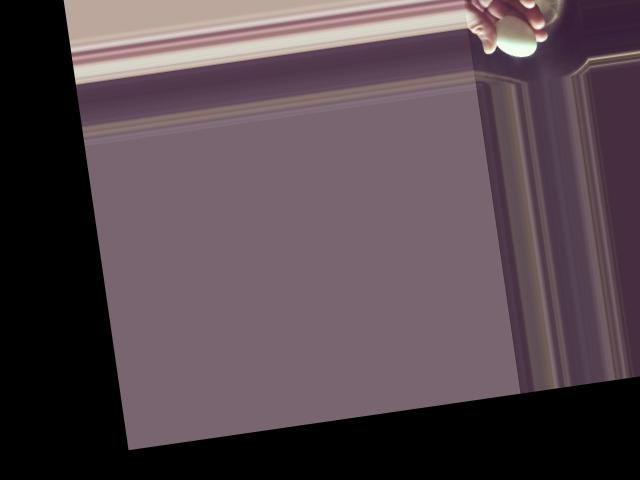egg: (491, 13, 537, 60)
